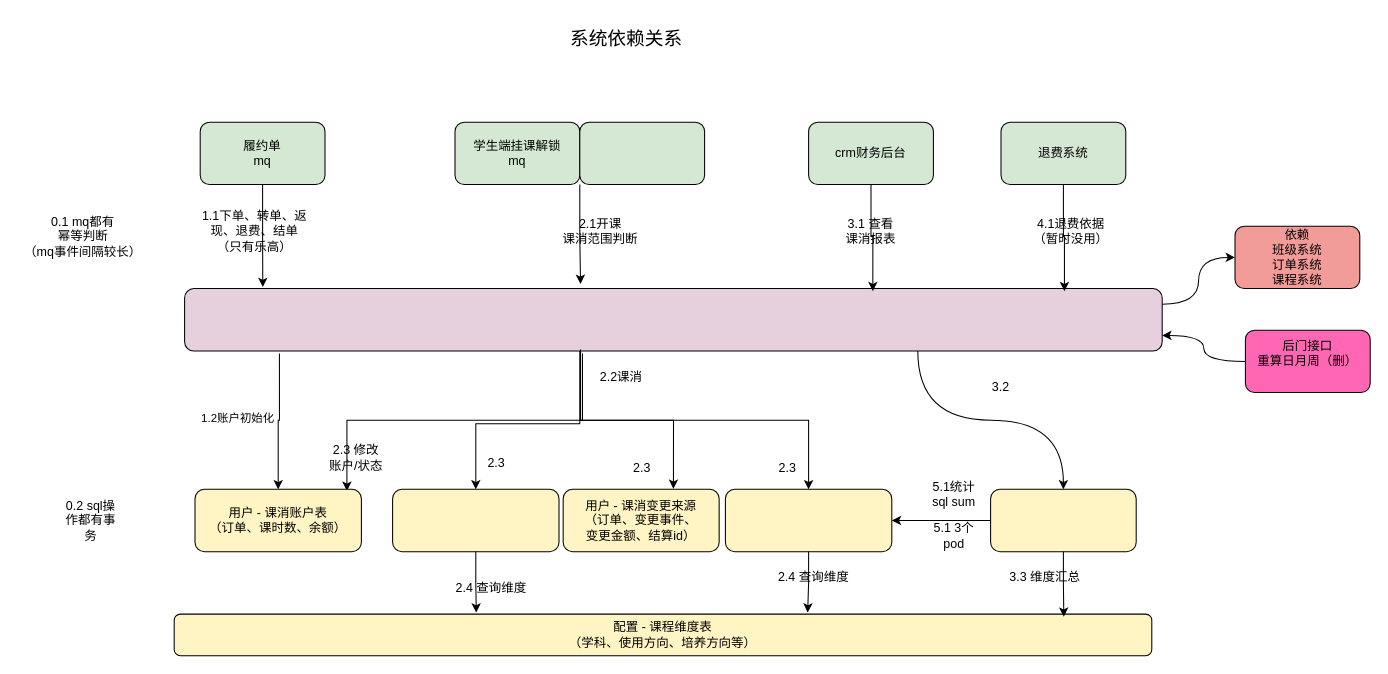
Some shapes in this 1388 by 674 pixel diagram are drawn without their labels. The shapes that lost their labels are listed below. From the top down, each one's box as (x1, y1, x2, y2) in pixels, then its label:
(579, 121, 705, 185): 直播课解锁 mq
(184, 288, 1162, 351): 乐高课消服务
(392, 488, 559, 552): 用户 - 课消课程流水表 （订单、班级、课程id）
(724, 488, 892, 552): 用户 - 课消结算流水表 （订单、消耗课时、 前后余额、消耗金额）
(990, 488, 1136, 552): 日、周、月 统计 （日期起始、课消金额总 课消订单总、课时总）
